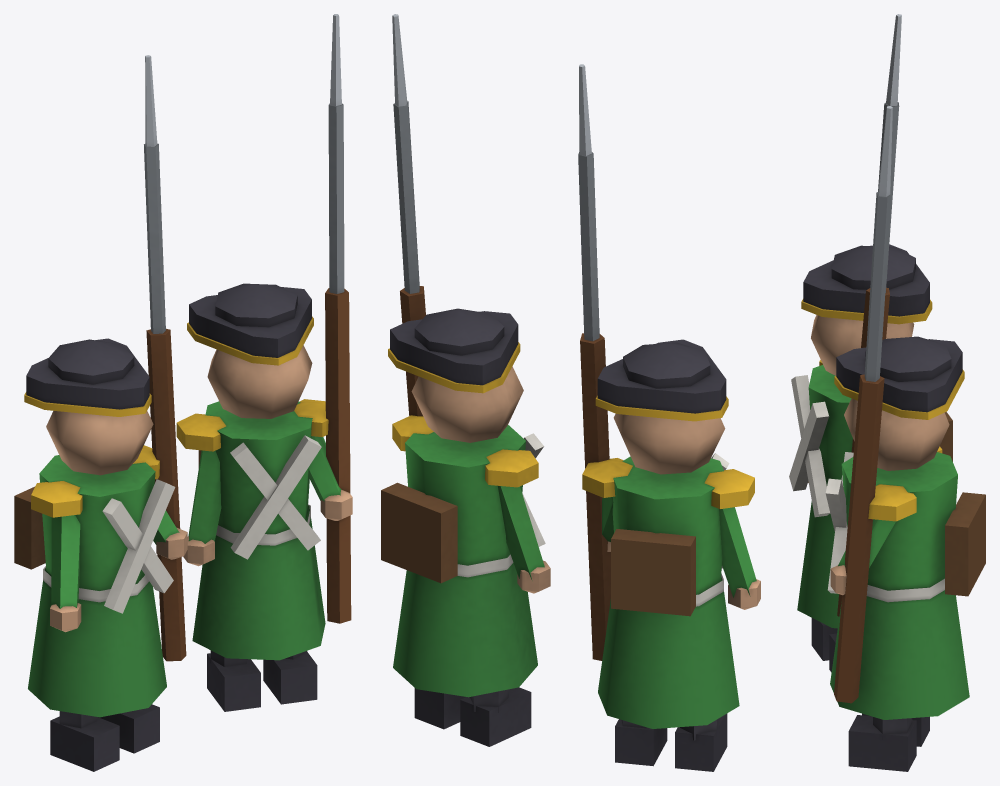
The model's file is sentry_dl4_green.glb.
3 renders of one model, left to right at view 1: azimuth 30°, elevation 25°; view 2: azimuth 150°, elevation 25°; view 3: azimuth 270°, elevation 25°, orthographic. The views are drawn at different scales.
Visible parts, largest first — view 1: sentry_dl4_green; view 2: sentry_dl4_green; view 3: sentry_dl4_green.
Part boxes in pixels (box(x1,y1,x2,y2)): sentry_dl4_green: box(14, 14, 352, 771); sentry_dl4_green: box(381, 14, 760, 771); sentry_dl4_green: box(789, 14, 985, 771).
Size of the model in its own units: 0.3372 by 0.6557 by 0.1724.
Materials: 1 (1 with a texture image).
